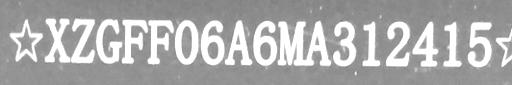letter: (224, 17, 254, 68), (276, 18, 306, 69), (464, 18, 494, 69), (410, 19, 440, 68), (146, 17, 174, 68), (172, 17, 200, 68), (384, 19, 412, 68), (305, 17, 331, 68), (95, 17, 123, 64), (120, 17, 148, 64), (199, 18, 225, 67), (252, 18, 278, 67), (331, 19, 357, 68), (70, 15, 94, 66), (358, 16, 382, 67), (44, 16, 70, 63), (440, 18, 464, 67)
